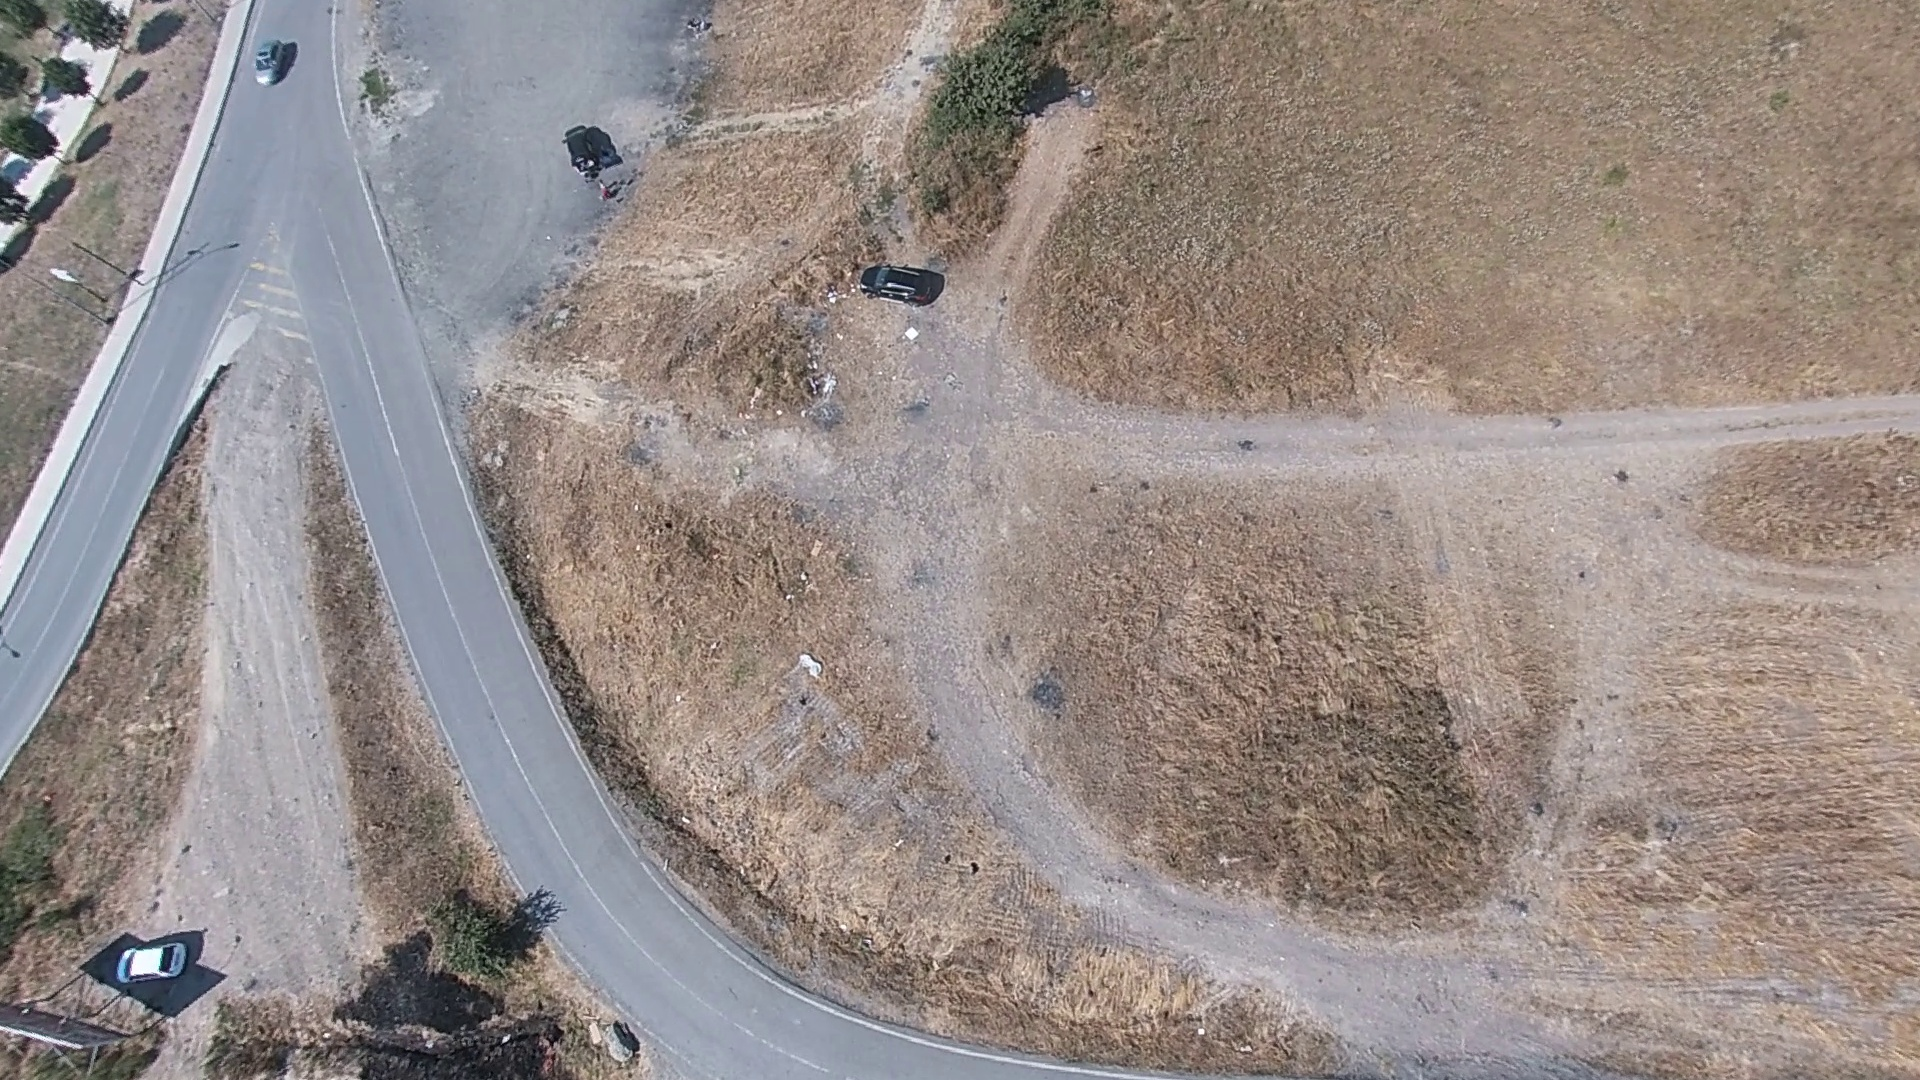insan: (608, 1018, 636, 1062)
